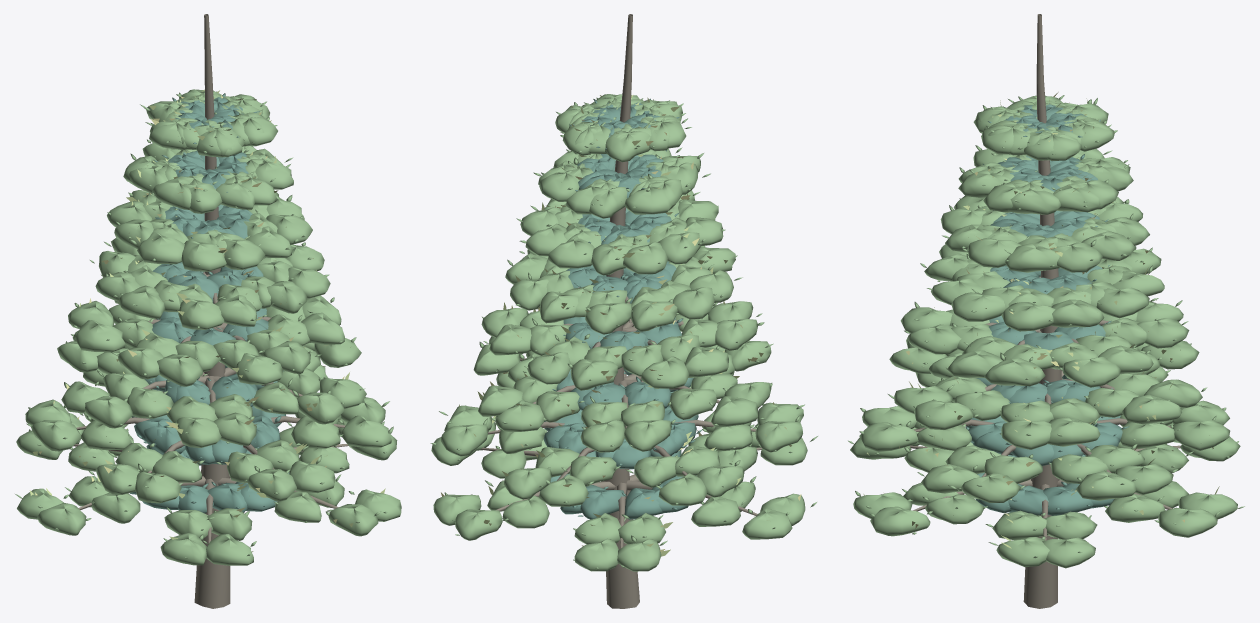
Rendered from fir_sapling.glb.
3 renders of one model, left to right at view 1: azimuth 30°, elevation 25°; view 2: azimuth 150°, elevation 25°; view 3: azimuth 270°, elevation 25°, orthographic.
Parts seen in each view (by area): view 1: fir_sapling; view 2: fir_sapling; view 3: fir_sapling.
Boxes of the visible parts, x1=… form: fir_sapling: x1=15, y1=14, x2=401, y2=608; fir_sapling: x1=430, y1=14, x2=817, y2=608; fir_sapling: x1=848, y1=14, x2=1244, y2=608.
Bounding box in the file's own units: 5.2 × 8.17 × 5.05.
